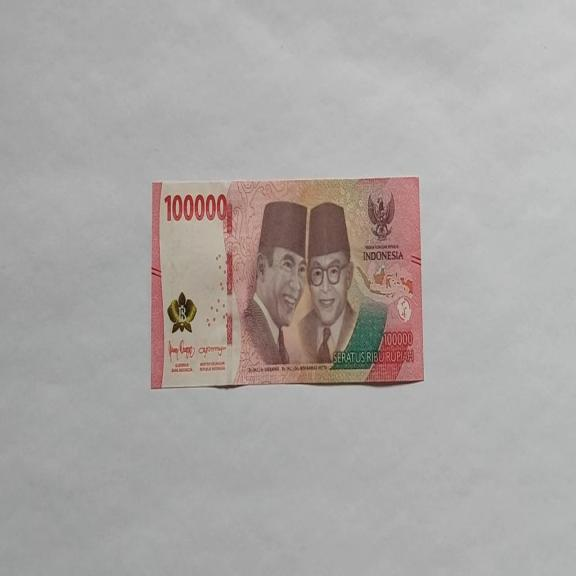Kertas: (150, 175, 424, 390), (163, 190, 229, 223)
